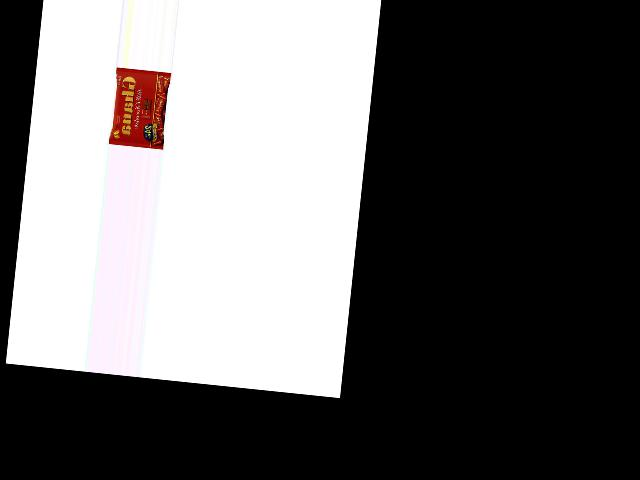chocolate: (109, 68, 172, 151)
